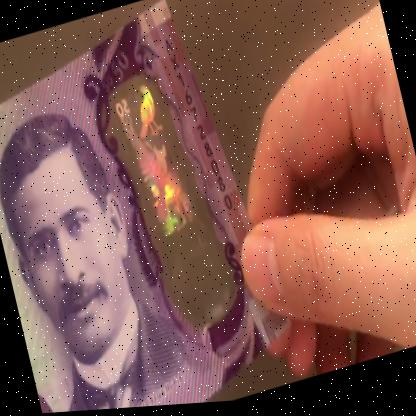50F: (110, 70, 222, 325)
